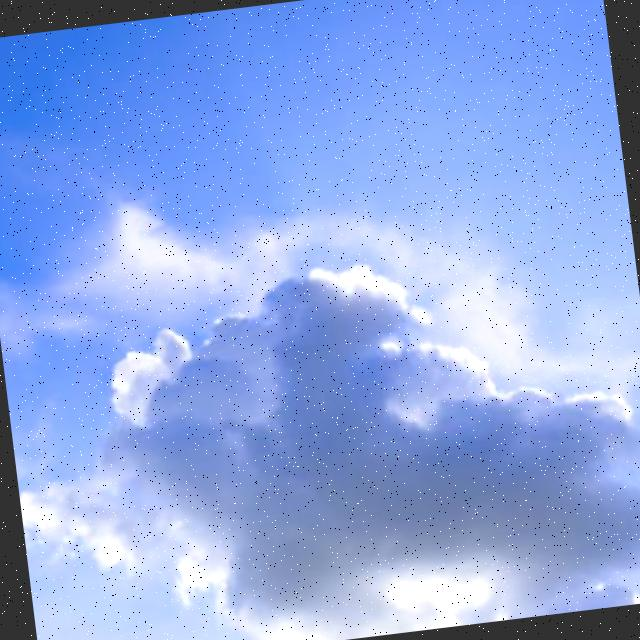As: (1, 215, 640, 640)
